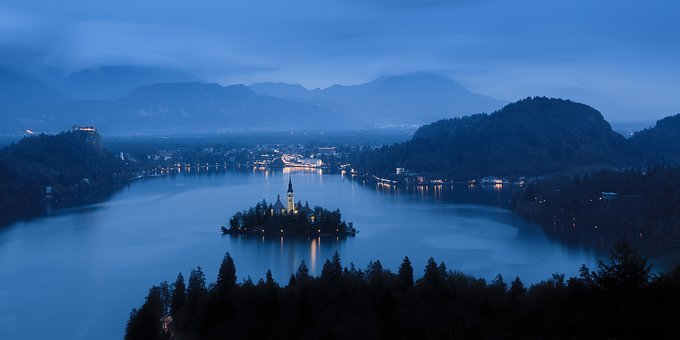lake: (19, 166, 589, 308)
mountain: (1, 69, 662, 166)
sky: (1, 4, 673, 115)
